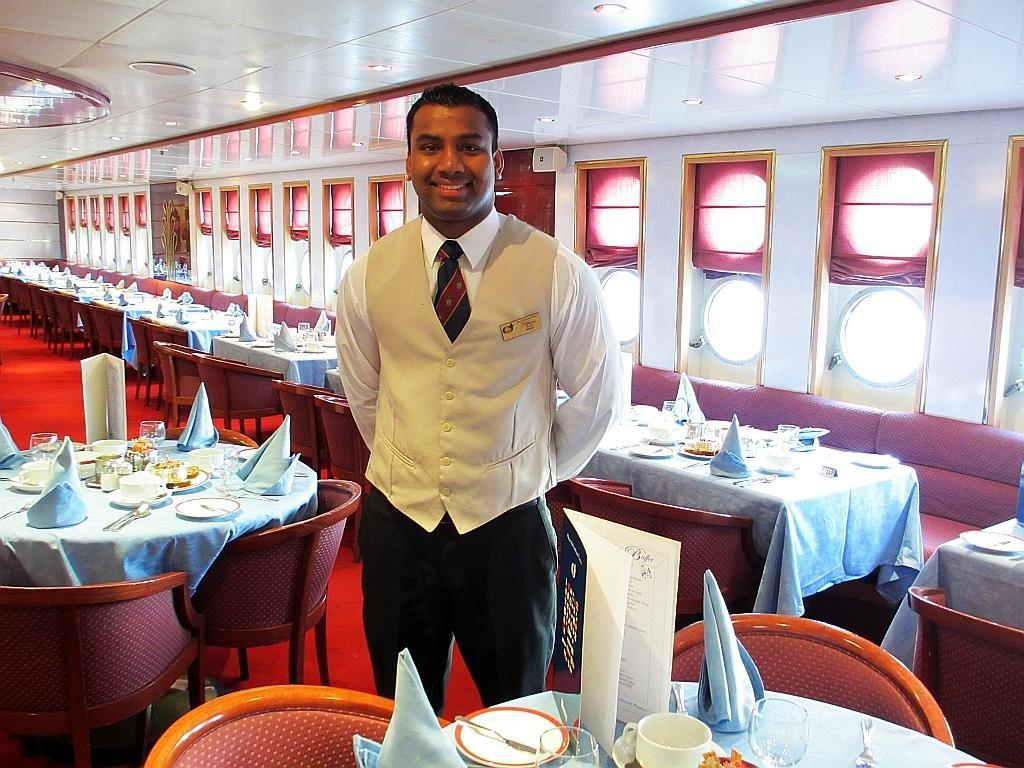face: (409, 101, 497, 213)
